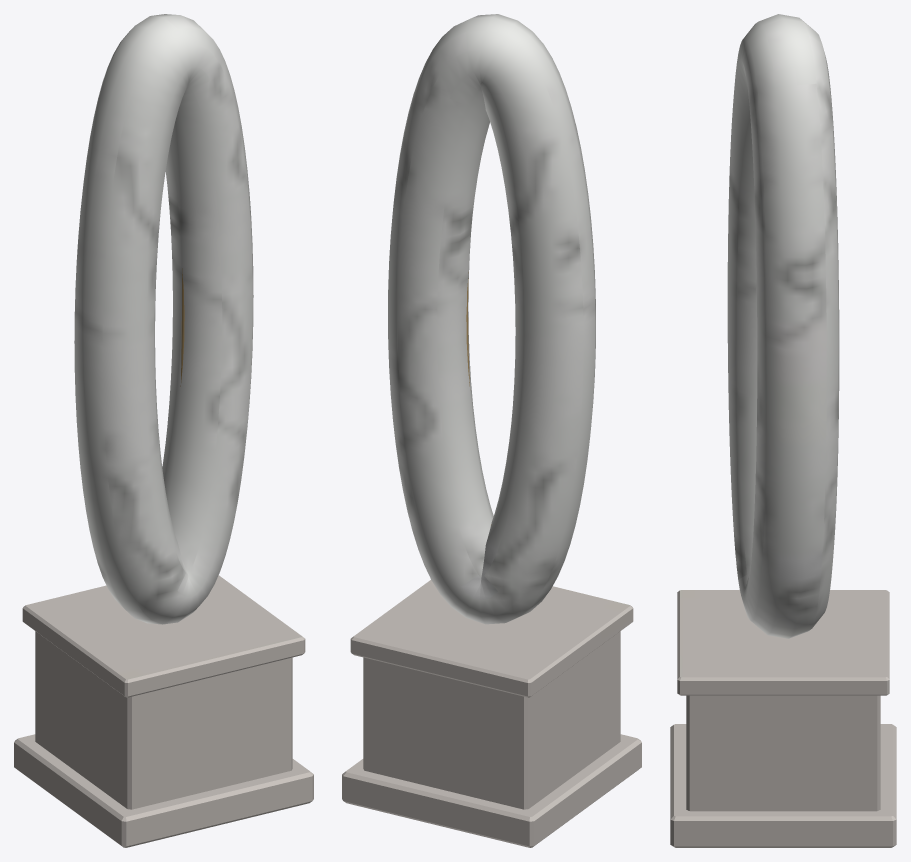
File: mobile.glb
The picture shows the model from 3 angles, left to right: view 1: azimuth 30°, elevation 25°; view 2: azimuth 150°, elevation 25°; view 3: azimuth 270°, elevation 25°; orthographic projection.
Bounding box in the file's own units: 0.78 × 2.98 × 0.78.
1 material, 1 textured.
